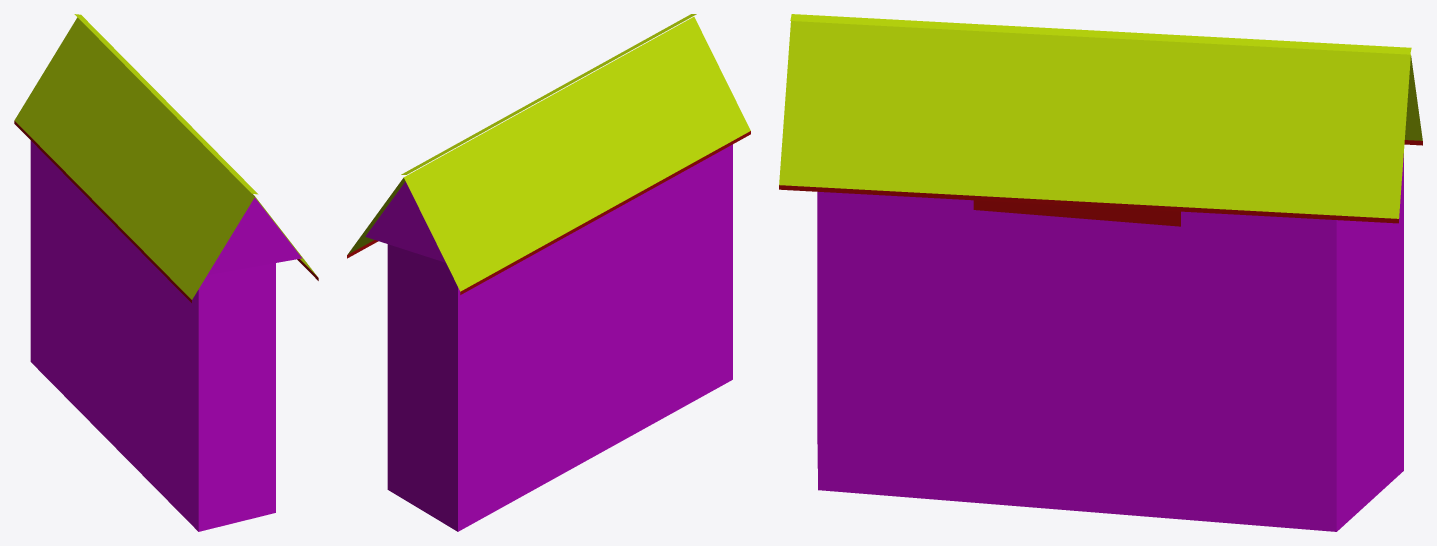
Rendered from bgj_312.glb.
3 views of the same model, side by side, from view 1: azimuth 30°, elevation 25°; view 2: azimuth 150°, elevation 25°; view 3: azimuth 270°, elevation 25° (orthographic). The views are drawn at different scales.
Visible parts, largest first — view 1: bgj_312; view 2: bgj_312; view 3: bgj_312.
Part boxes in pixels (bbox=[...]): bgj_312: bbox=[14, 14, 318, 531]; bgj_312: bbox=[347, 14, 750, 531]; bgj_312: bbox=[779, 14, 1422, 531].
Size of the model in its own units: 6.3 by 11.91 by 15.32.
